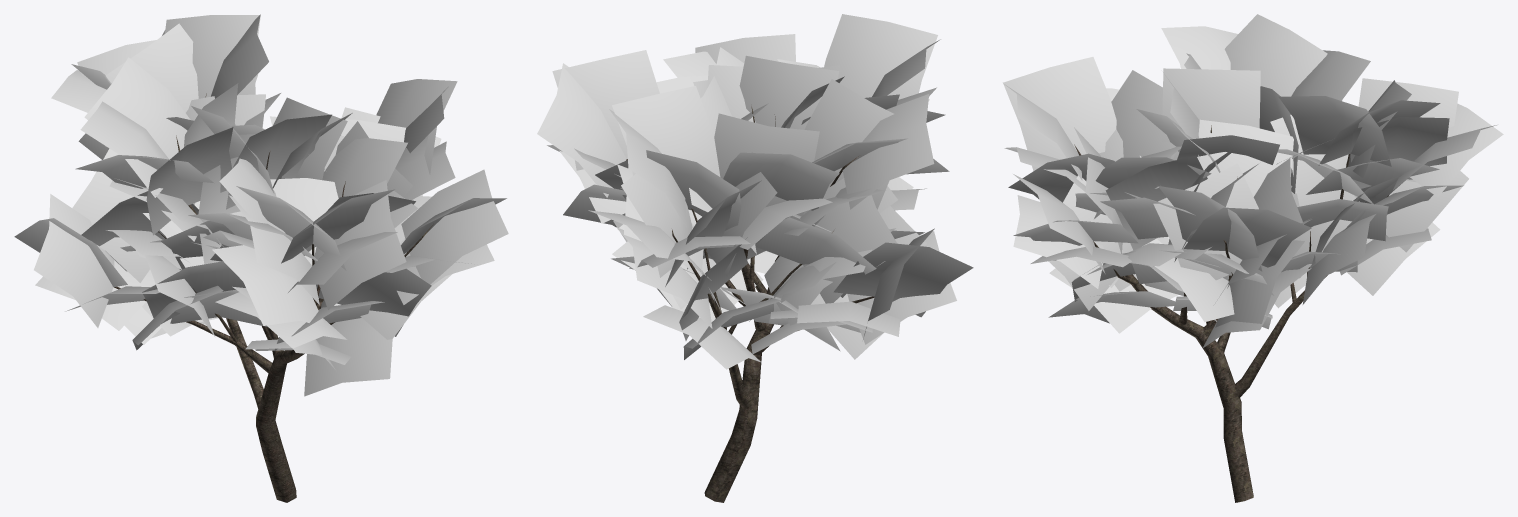
File: schefflera2.fbx
3 renders of one model, left to right at view 1: azimuth 30°, elevation 25°; view 2: azimuth 150°, elevation 25°; view 3: azimuth 270°, elevation 25°, orthographic. The views are drawn at different scales.
Visible parts, largest first — view 1: polySurface230; view 2: polySurface230; view 3: polySurface230.
Boxes of the visible parts, bbox=[...] form: polySurface230: bbox=[14, 14, 508, 502]; polySurface230: bbox=[537, 14, 973, 502]; polySurface230: bbox=[1003, 14, 1503, 502].
Size of the model in its own units: 27.62 by 27.12 by 29.83.
2 materials, 1 textured.
